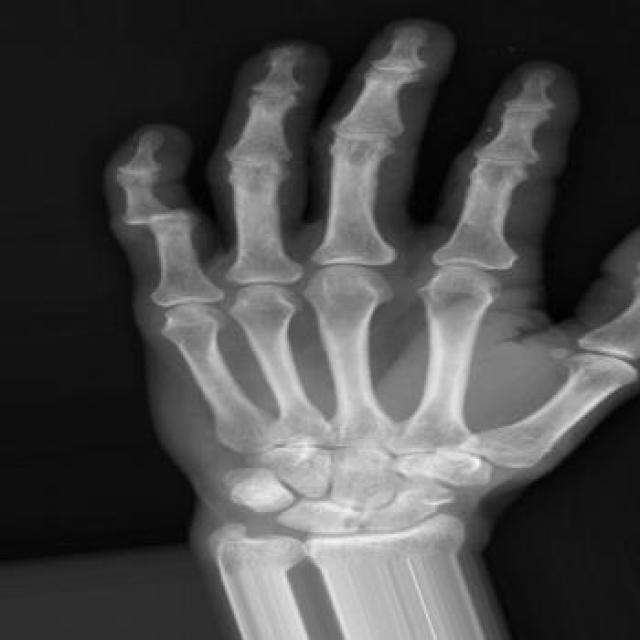Fracture: (114, 201, 197, 234)
